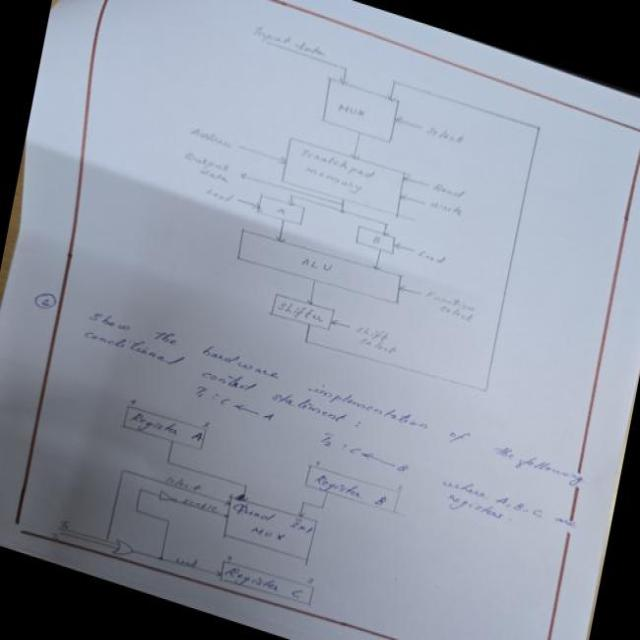Figure Detection - v3 Dataset Version2: (129, 0, 582, 429), (27, 363, 427, 640)
